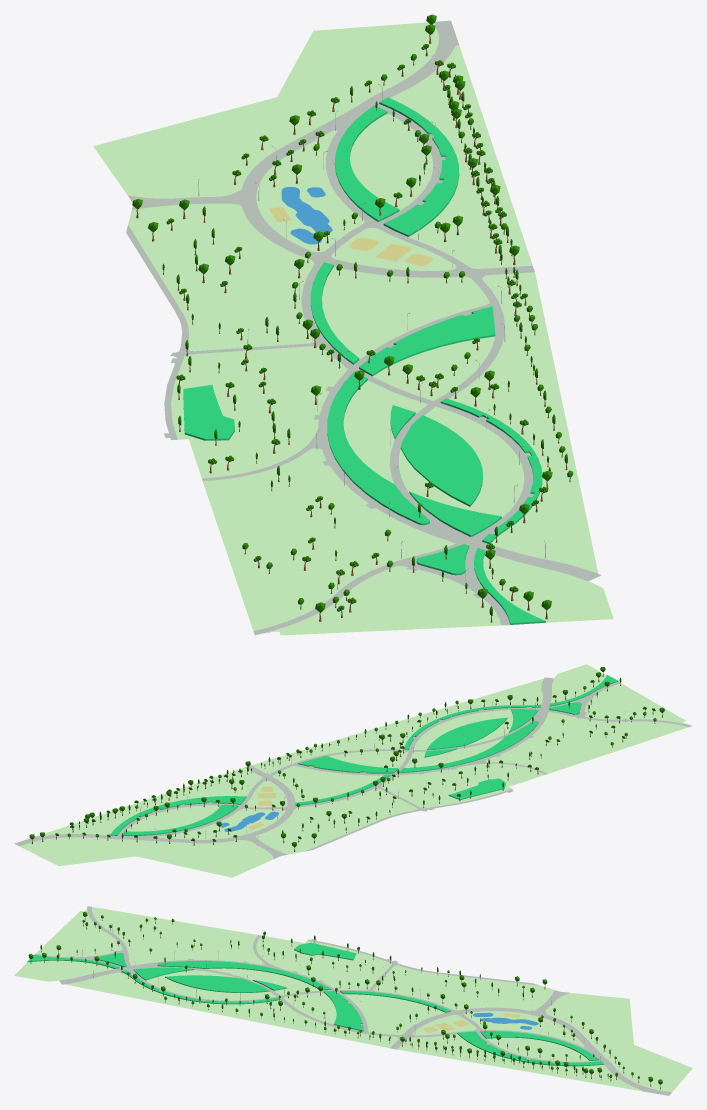
File: parkBambrow.glb
3 renders of one model, top to bottom at view 1: azimuth 30°, elevation 25°; view 2: azimuth 150°, elevation 25°; view 3: azimuth 270°, elevation 25°, orthographic. The views are drawn at different scales.
Parts seen in each view (by area): view 1: trawnik, nasadzenia, sciezki, tree2, tree1, tree4, tree5, tree6, EPDM, piasek; view 2: trawnik, nasadzenia, sciezki, tree2, tree1, tree5, tree4, tree6, EPDM; view 3: trawnik, nasadzenia, sciezki, tree2, tree1, tree5, tree6, tree4, EPDM, piasek.
Boxes of the visible parts, x1,y1,x2,y2 form: trawnik: (93,22,613,635); nasadzenia: (183,97,545,624); sciezki: (126,20,601,635); tree2: (132,14,552,621); tree1: (176,60,547,612); tree4: (166,44,538,617); tree5: (176,86,567,622); tree6: (242,54,573,609); EPDM: (281,187,332,244); piasek: (269,207,432,265); trawnik: (20,664,688,877); nasadzenia: (110,675,618,835); sciezki: (14,677,692,858); tree2: (29,667,664,851); tree1: (69,680,646,845); tree5: (99,678,621,841); tree4: (55,698,655,844); tree6: (67,686,656,839); EPDM: (220,811,278,831); trawnik: (14,907,692,1092); nasadzenia: (27,942,604,1066); sciezki: (35,906,671,1095); tree2: (28,911,662,1089); tree1: (56,922,617,1081); tree5: (40,935,610,1076); tree6: (70,915,633,1077); tree4: (82,917,639,1082); EPDM: (473,1012,538,1029); piasek: (424,1013,520,1032).
Size of the model in its own units: 198 by 4.83 by 299.
Materials: 12 (6 with a texture image).
